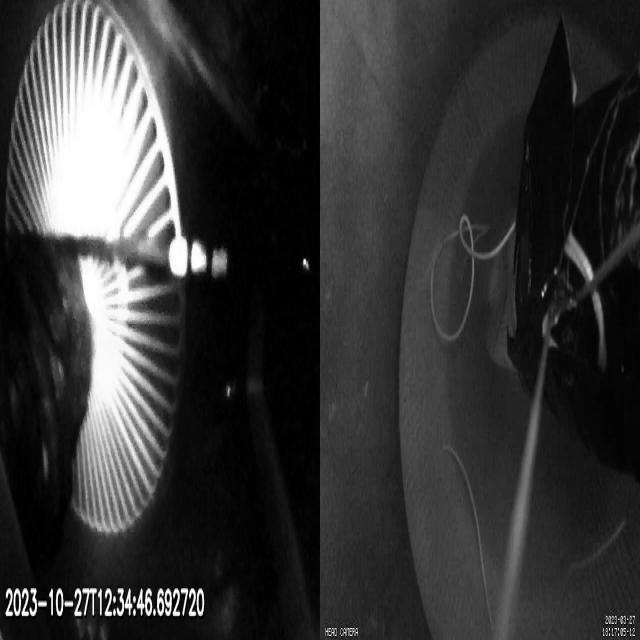white-dots: (169, 234, 228, 281)
